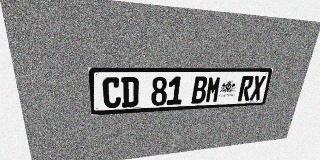1: (167, 76, 184, 105)
8: (151, 77, 168, 106)
B: (191, 76, 208, 104)
C: (102, 77, 121, 109)
D: (121, 77, 139, 108)
M: (205, 76, 222, 103)
R: (237, 76, 254, 101)
X: (249, 76, 266, 101)
